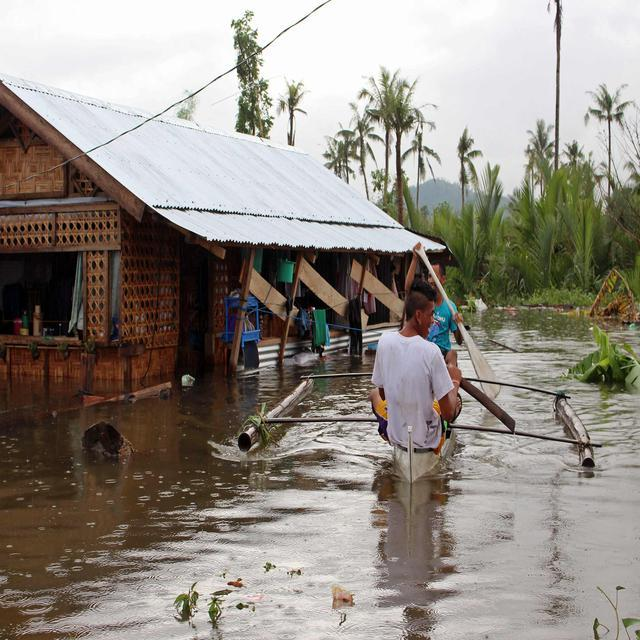Person-RiskLevel3: (368, 239, 470, 460)
